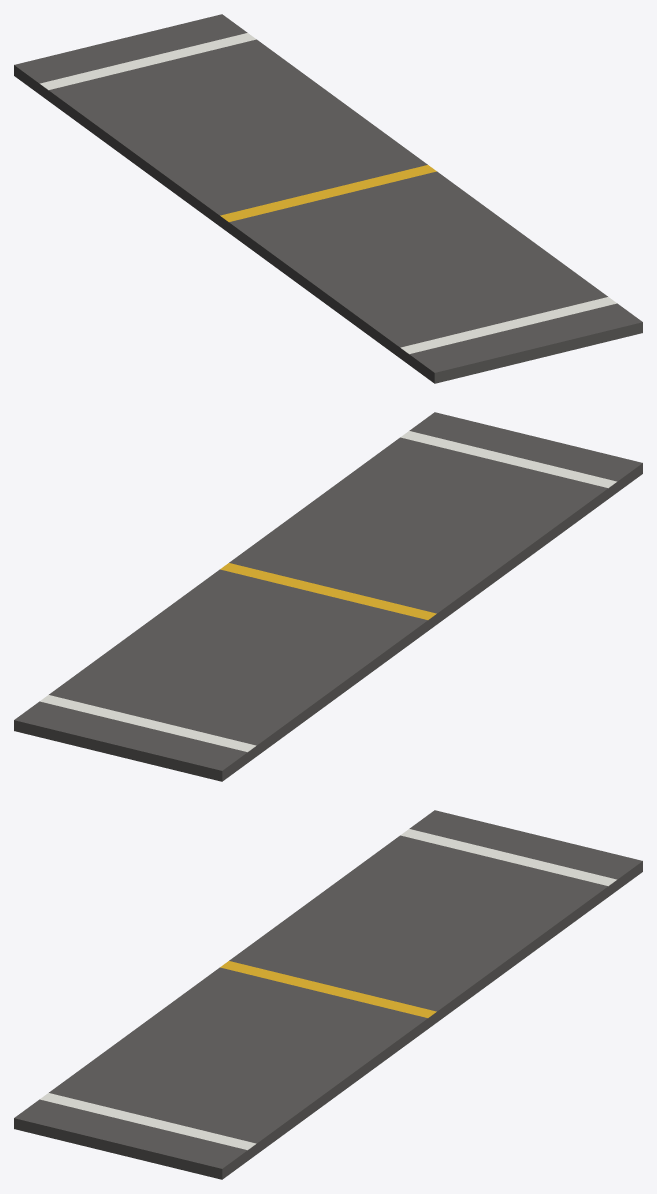
The model's file is SM_Ground_Road_700x200_Yellow_01.fbx.
3 renders of one model, top to bottom at view 1: azimuth 30°, elevation 25°; view 2: azimuth 150°, elevation 25°; view 3: azimuth 330°, elevation 25°, orthographic.
Parts seen in each view (by area): view 1: SM_Ground_Road_700x200_Yellow_01; view 2: SM_Ground_Road_700x200_Yellow_01; view 3: SM_Ground_Road_700x200_Yellow_01.
Boxes of the visible parts, left/top/right/bottom form: SM_Ground_Road_700x200_Yellow_01: left=14, top=14, right=642, bottom=383; SM_Ground_Road_700x200_Yellow_01: left=14, top=412, right=642, bottom=781; SM_Ground_Road_700x200_Yellow_01: left=14, top=810, right=642, bottom=1179.
Size of the model in its own units: 2 by 0.1 by 7.
1 material, 1 textured.
